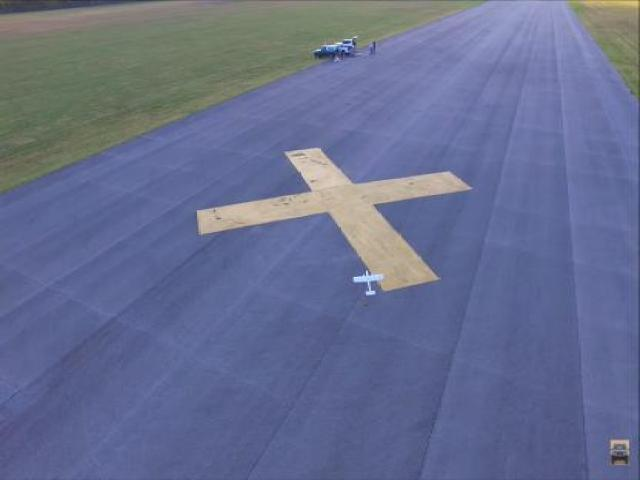uav: (352, 269, 386, 295)
